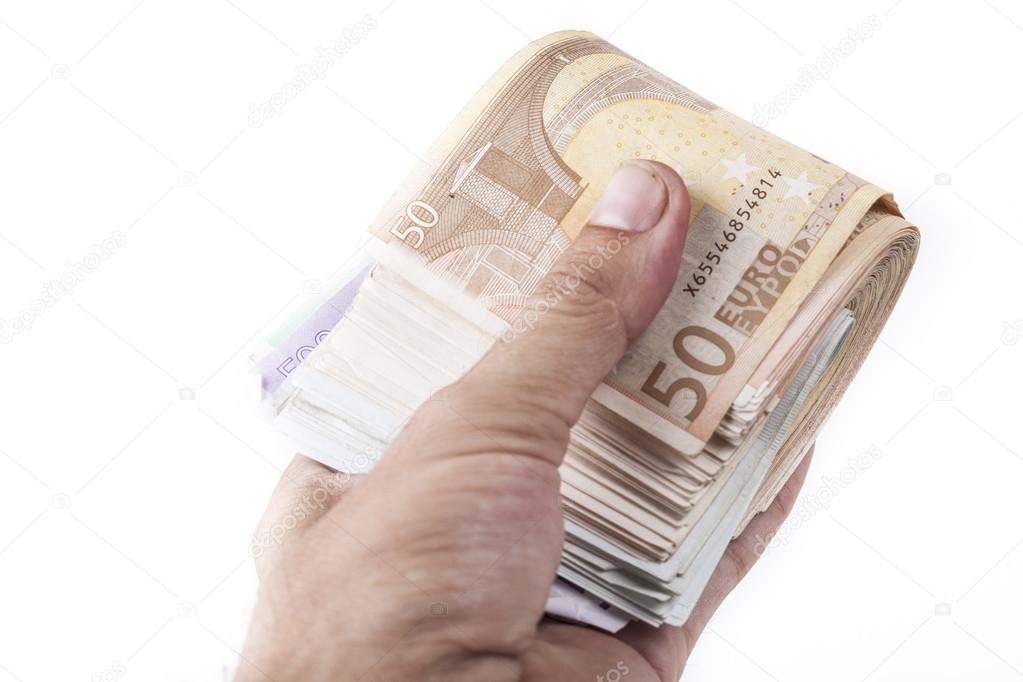billete: (239, 27, 924, 640)
